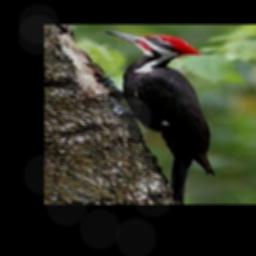Woodpecker: (102, 30, 213, 203)
